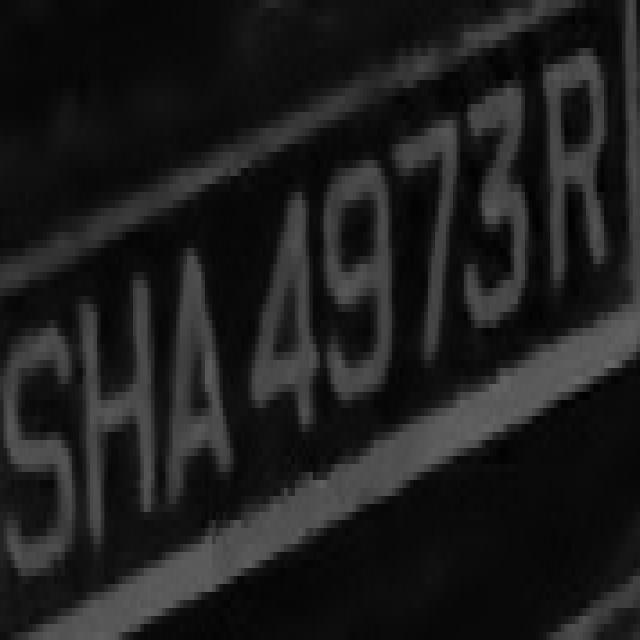3: (453, 72, 529, 368)
4: (227, 176, 320, 472)
7: (388, 104, 464, 400)
9: (302, 144, 399, 432)
A: (151, 232, 234, 528)
H: (76, 256, 166, 536)
R: (536, 32, 615, 328)
S: (4, 264, 79, 600)
